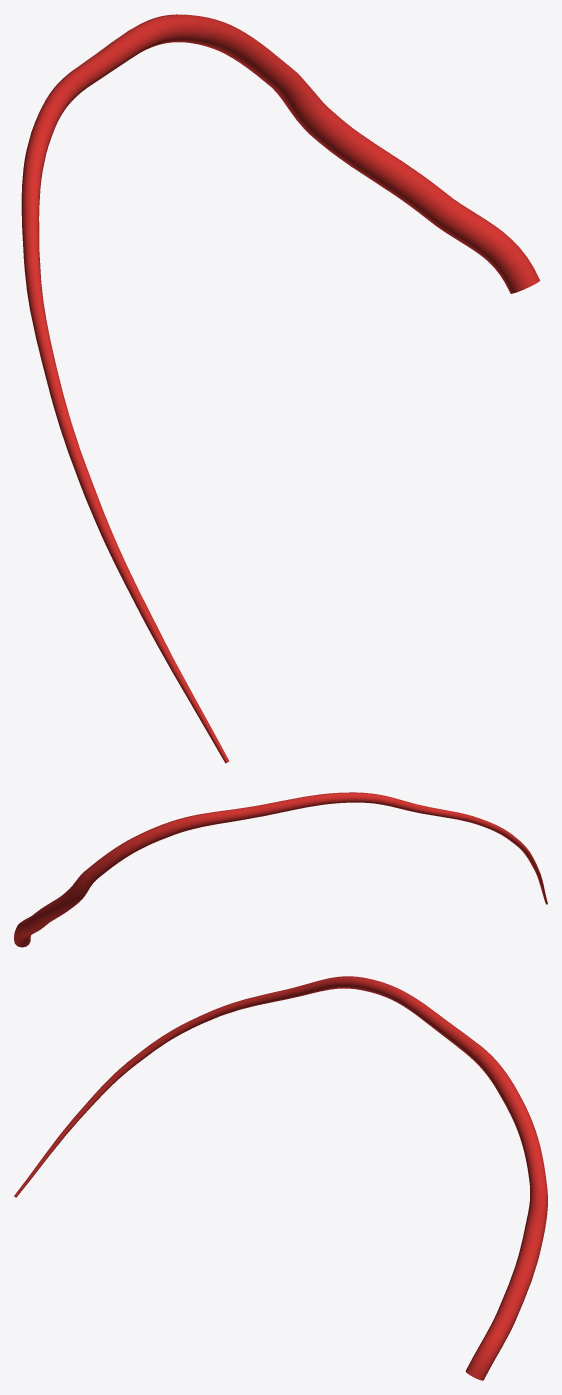
File: circulatorio-iliacus-branch-of-iliolumbar-artery-r.glb
The picture shows the model from 3 angles, top to bottom: view 1: azimuth 30°, elevation 25°; view 2: azimuth 150°, elevation 25°; view 3: azimuth 270°, elevation 25°; orthographic projection. The views are drawn at different scales.
Visible parts, largest first — view 1: Iliacus branch of iliolumbar artery.r; view 2: Iliacus branch of iliolumbar artery.r; view 3: Iliacus branch of iliolumbar artery.r.
Boxes of the visible parts, x1,y1,x2,y2 form: Iliacus branch of iliolumbar artery.r: (21,14,540,763); Iliacus branch of iliolumbar artery.r: (14,792,547,947); Iliacus branch of iliolumbar artery.r: (14,976,547,1380).
Bounding box in the file's own units: 0.0885 × 0.0476 × 0.0915.
